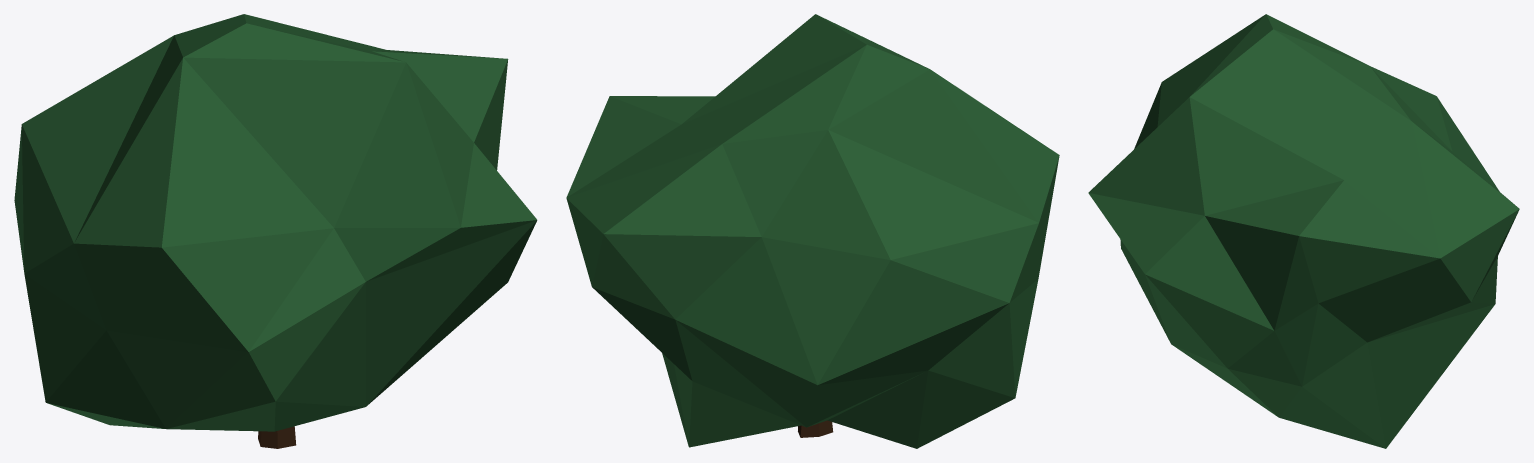
Rendered from OakTree.glb.
3 views of the same model, side by side, from view 1: azimuth 30°, elevation 25°; view 2: azimuth 150°, elevation 25°; view 3: azimuth 270°, elevation 25° (orthographic). The views are drawn at different scales.
Visible parts, largest first — view 1: OakTree; view 2: OakTree; view 3: OakTree.
Boxes of the visible parts, <box> form: OakTree: <box>14,14,537,448</box>; OakTree: <box>566,14,1059,448</box>; OakTree: <box>1088,14,1519,448</box>.
Bounding box in the file's own units: 7.56 × 6.79 × 7.27.
